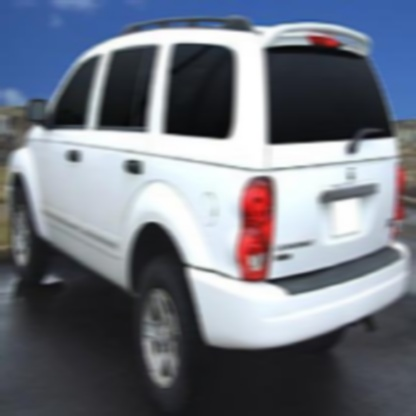Vehicle: (7, 14, 410, 409)
